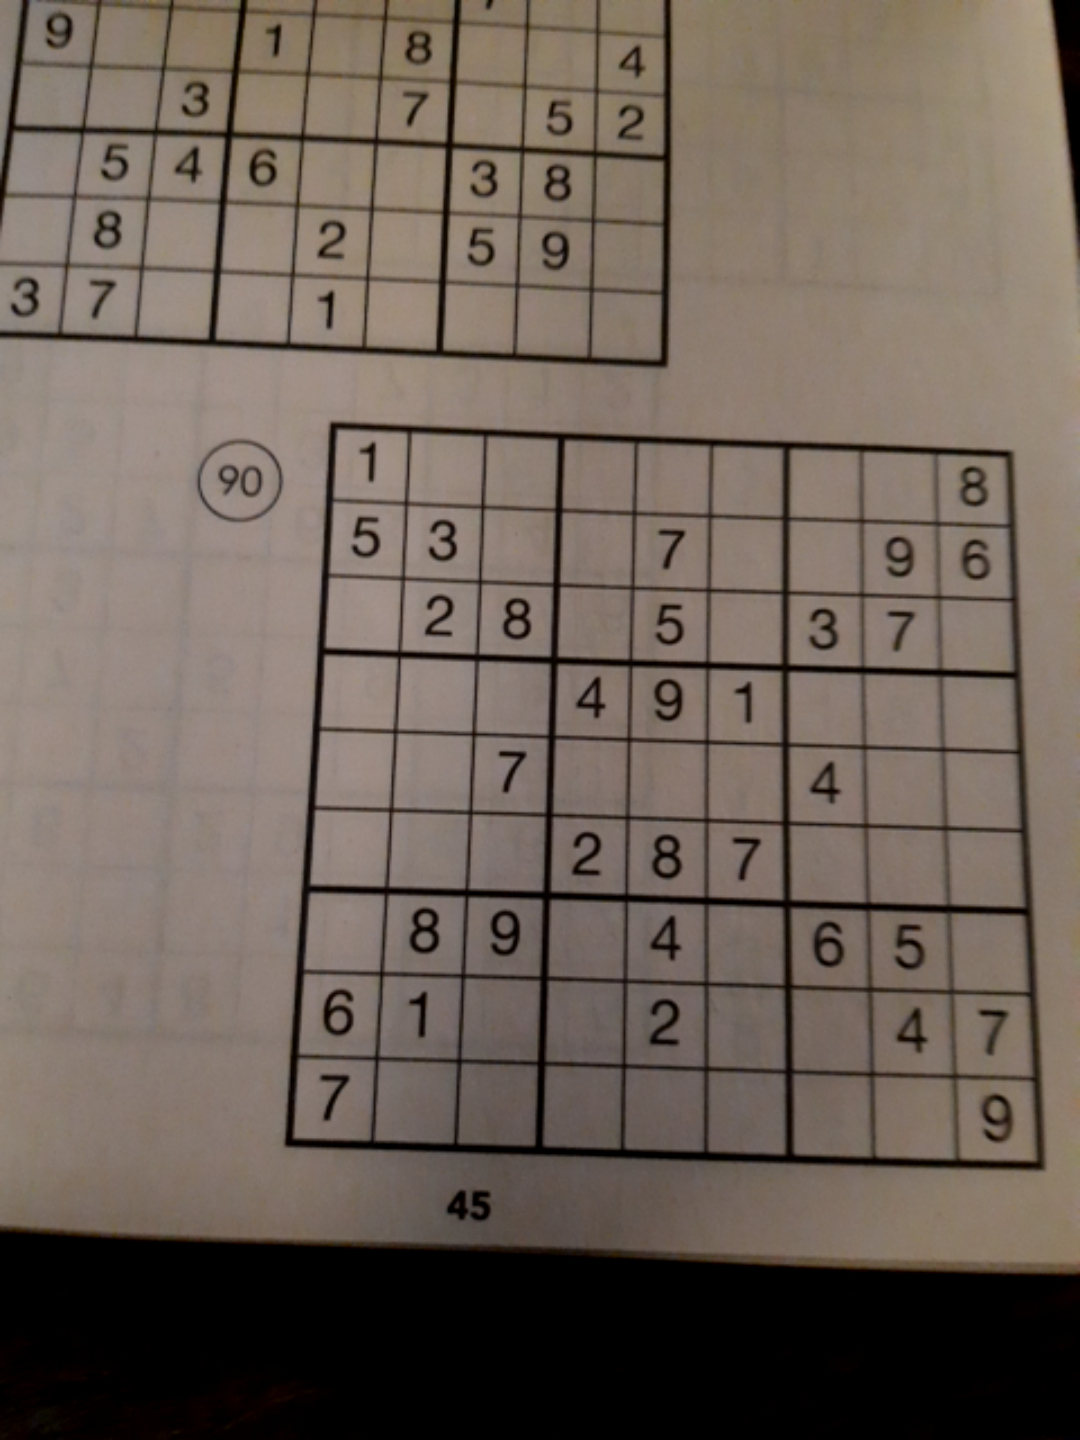sudoku: (289, 413, 1046, 1165)
